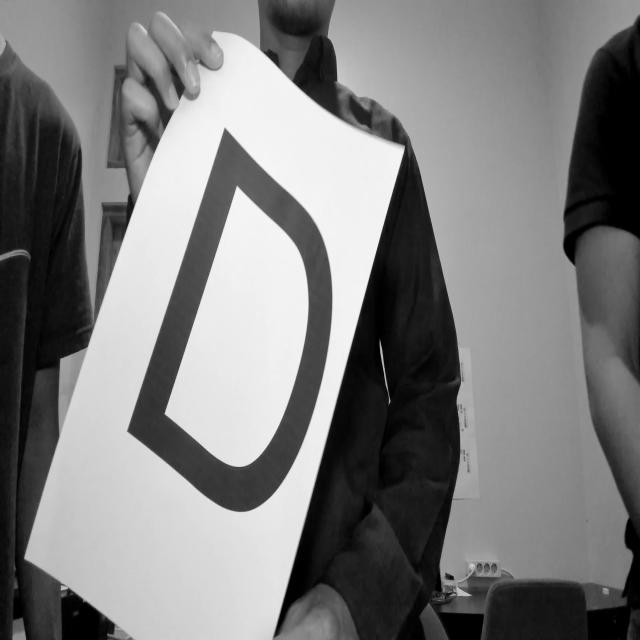d: (121, 115, 340, 532)
